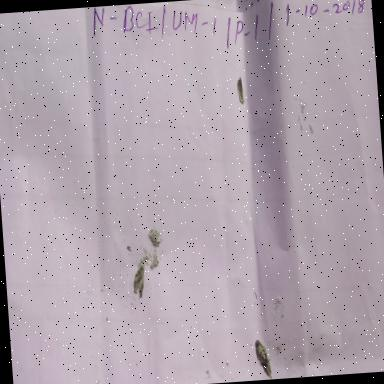pbw: (248, 332, 278, 378), (128, 260, 147, 298), (231, 70, 248, 110)
